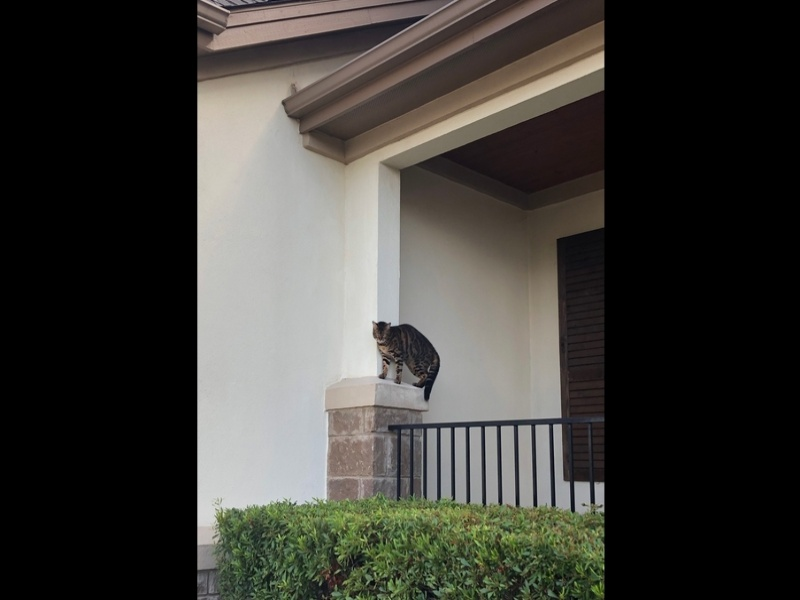cat: (368, 317, 441, 405)
